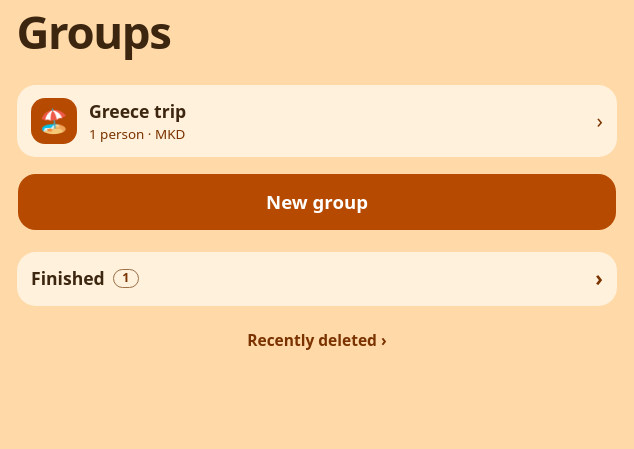
GroupsScreen › hides the finished groups again when the Finished row is pressed twice
This screenshot has width=634, height=449.
Expected: the text "Greece trip" is shown, [89,99,186,123]
Click the button "Finished 1 ›" at (68, 278), box [16,252,618,306]
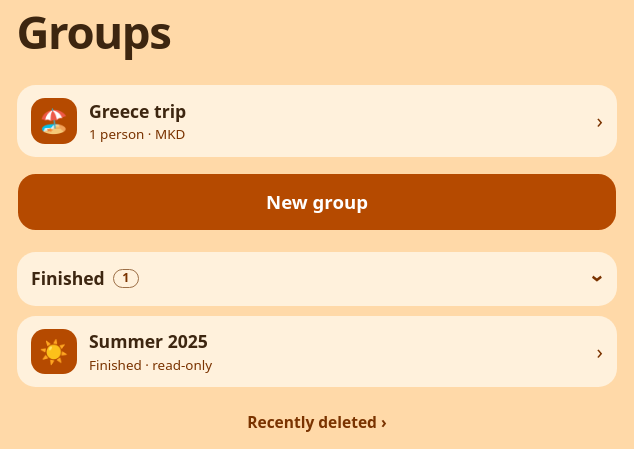
Click the button "Finished 1 ›" at (68, 278), box [16,252,618,306]
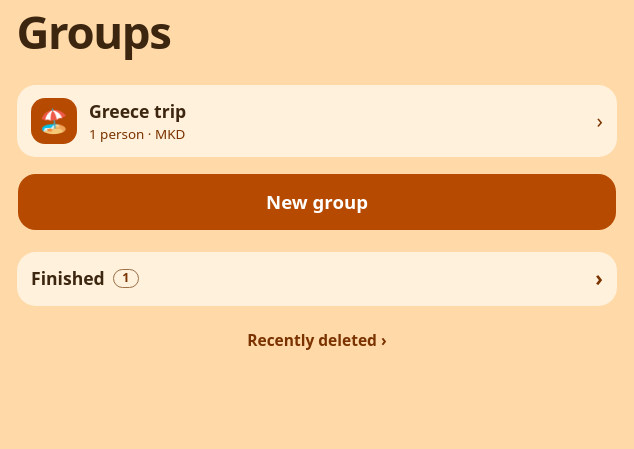
Expected: the link "Summer 2025" is gone
